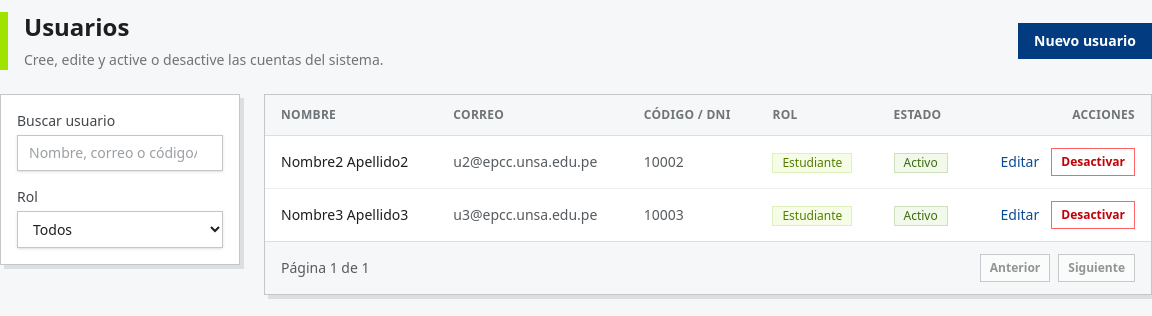
Test: UserListPage › filtra la lista con la barra de búsqueda
This screenshot has width=1152, height=316.
Expected: the text "Nombre2 Apellido2" is shown, left=265, top=136, right=437, bottom=188
Type "apellido7" into the search field labelled "Buscar usuario" at [120, 153], box left=17, top=135, right=223, bottom=171
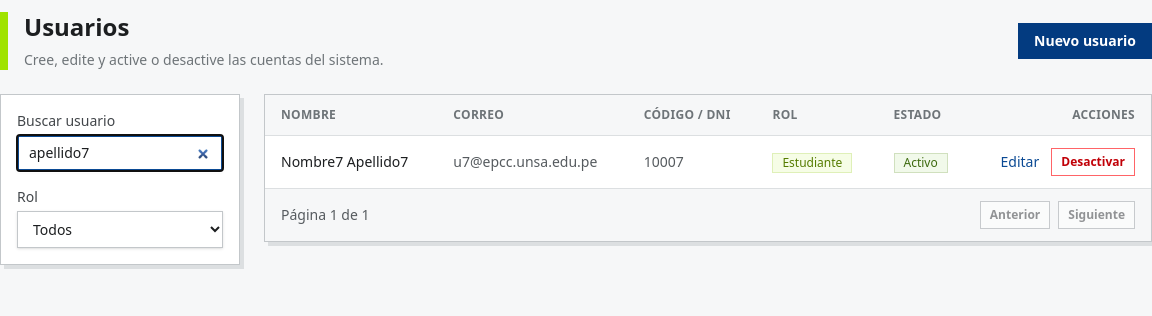
Expected: the text "Nombre7 Apellido7" is shown, left=265, top=136, right=437, bottom=188
Expected: the text "Nombre2 Apellido2" is gone
